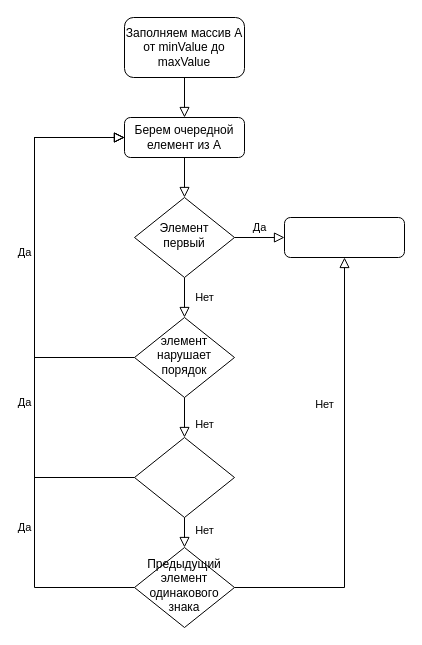
Image size: 422x645. Some labels were removed from this diagram. Each missing label, with the box of its shape:
Переносим элемент в массив B: (284, 216, 404, 258)
элемент больше 8: (134, 436, 234, 518)
